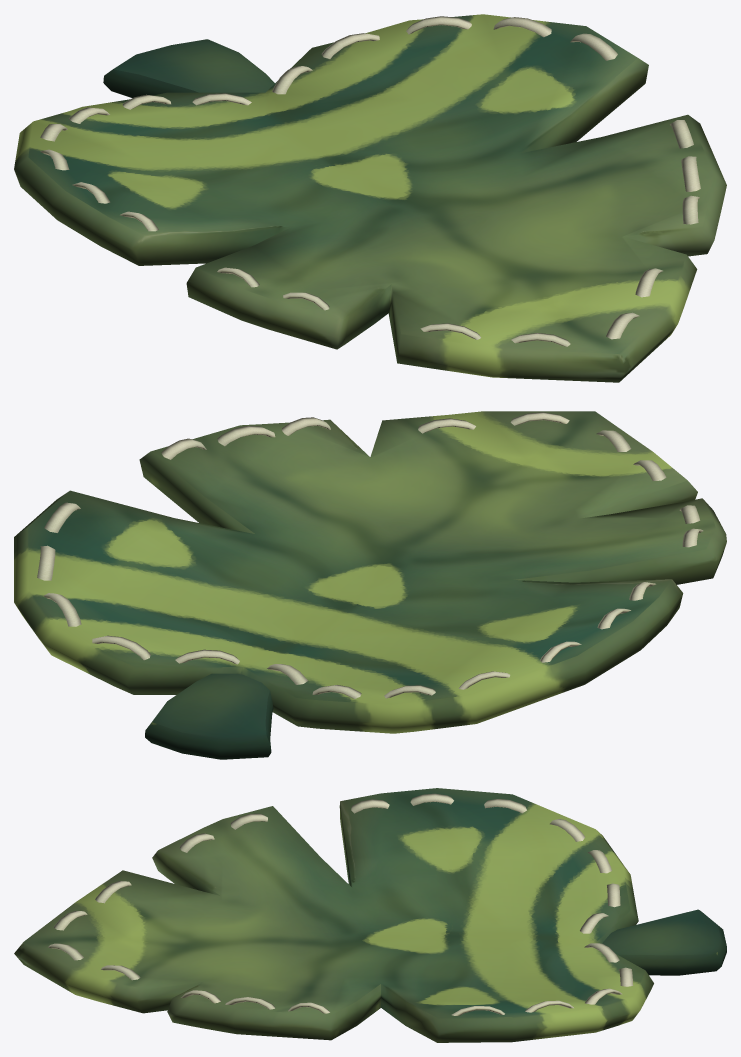
The model's file is FlyingLeaf.fbx.
3 views of the same model, one above another, from view 1: azimuth 30°, elevation 25°; view 2: azimuth 150°, elevation 25°; view 3: azimuth 270°, elevation 25° (orthographic). The views are drawn at different scales.
Parts seen in each view (by area): view 1: 1_low; view 2: 1_low; view 3: 1_low.
Part boxes in pixels (x1,y1,x2,y2): 1_low: (14, 14, 726, 382); 1_low: (14, 411, 726, 759); 1_low: (14, 788, 726, 1042).
Size of the model in its own units: 6.76 by 0.91 by 8.7.
